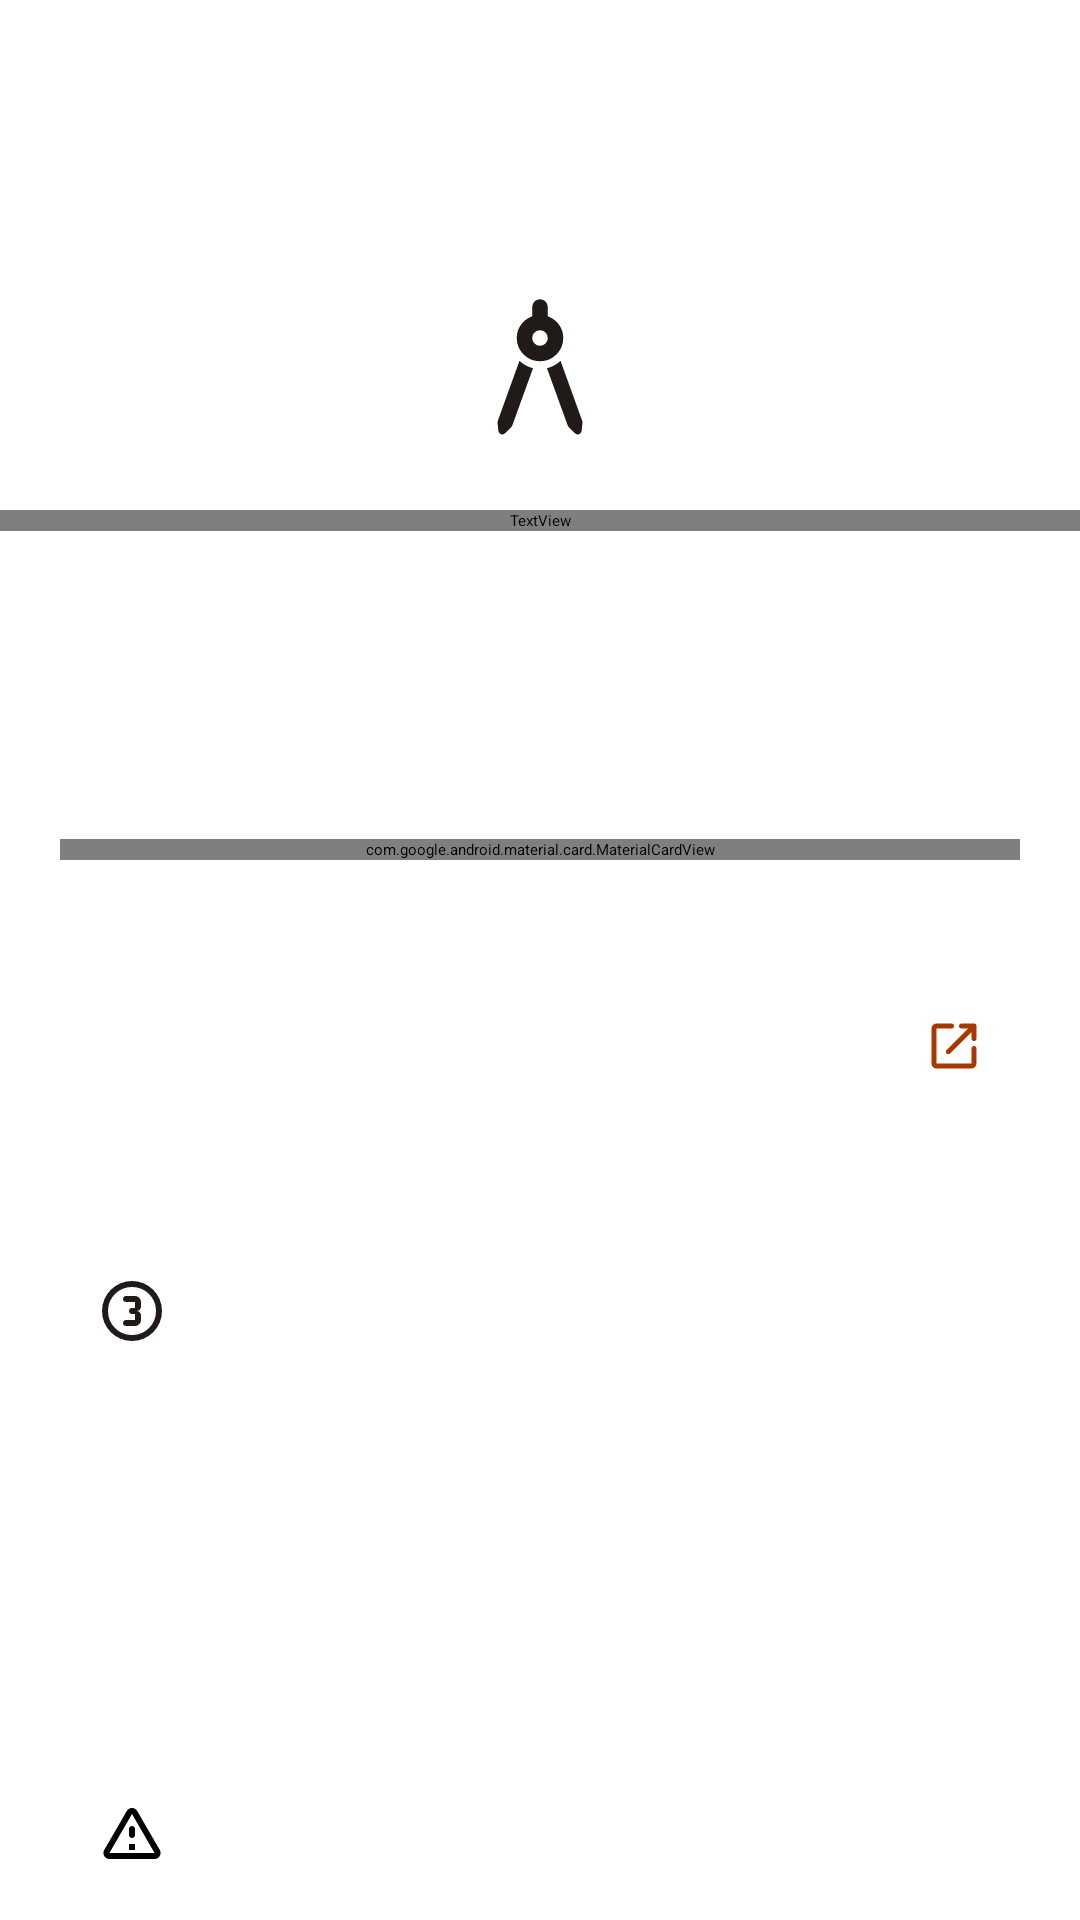

Icon click points for this 1080 x 1920 phone screenshot, format point (x, y):
architecture: point (540, 367)
counter: point (132, 1311)
warning amber: point (132, 1833)
